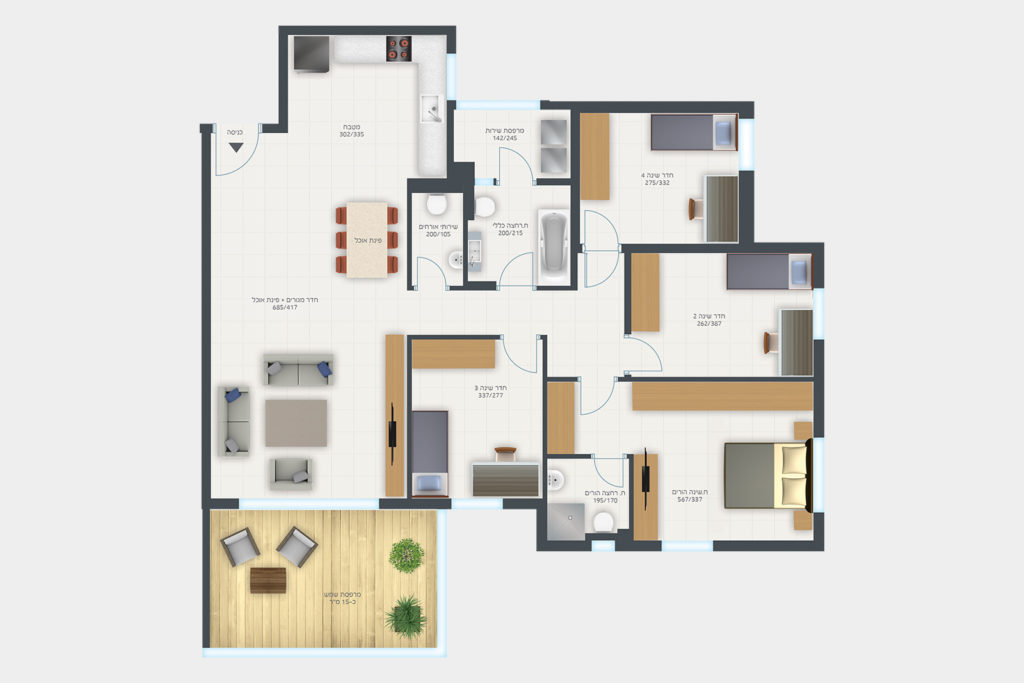door: (214, 137, 280, 198), (634, 334, 674, 375), (577, 387, 625, 420), (582, 204, 621, 243), (495, 139, 532, 180), (581, 258, 619, 297), (501, 349, 542, 384), (584, 461, 631, 491), (498, 248, 536, 284), (415, 253, 447, 284)
wall: (201, 126, 210, 635), (571, 102, 752, 115), (628, 244, 823, 251), (571, 117, 580, 229), (815, 341, 825, 439), (741, 169, 752, 249), (718, 541, 820, 549), (536, 501, 549, 549)
